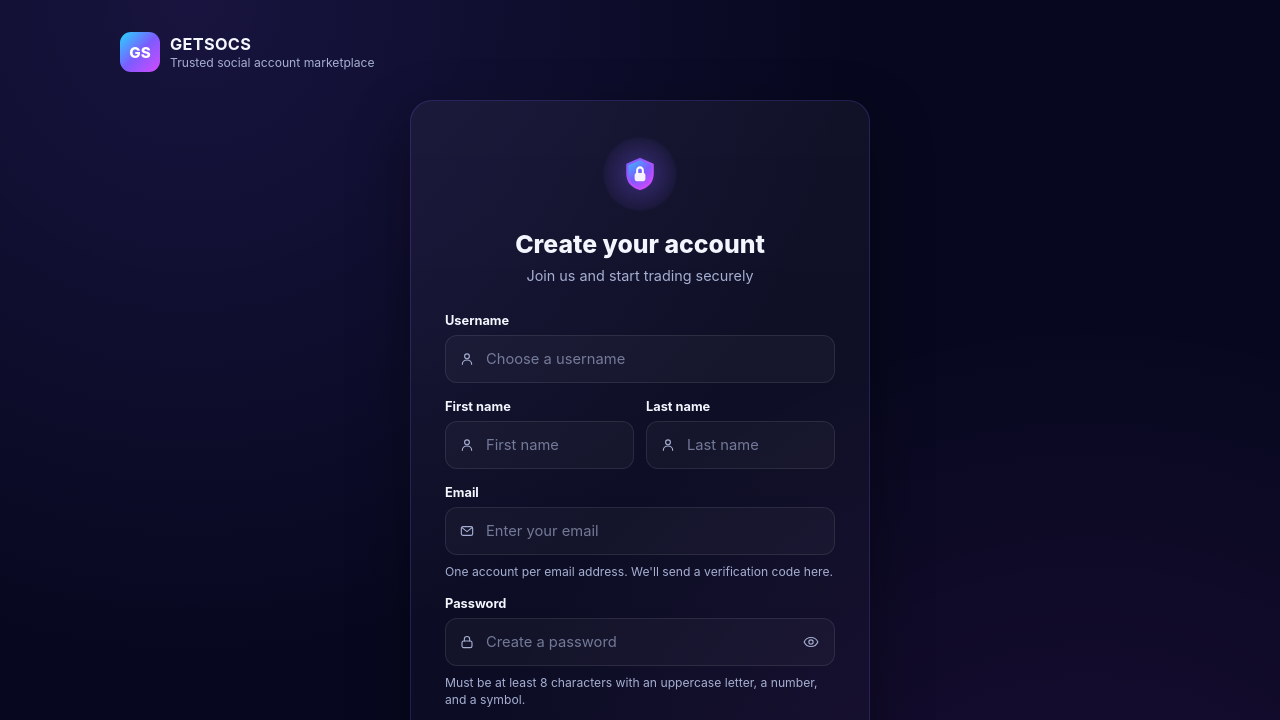
Redesigned auth pages — render + core interactions › Register: successful submission with requiresEmailVerification shows the verify-code card, not the home redirect
Type "newuser" into the field with placeholder "Choose a username" at (640,359), box [445, 335, 835, 383]
Type "New" into the field with placeholder "First name" at (540,445), box [445, 421, 634, 469]
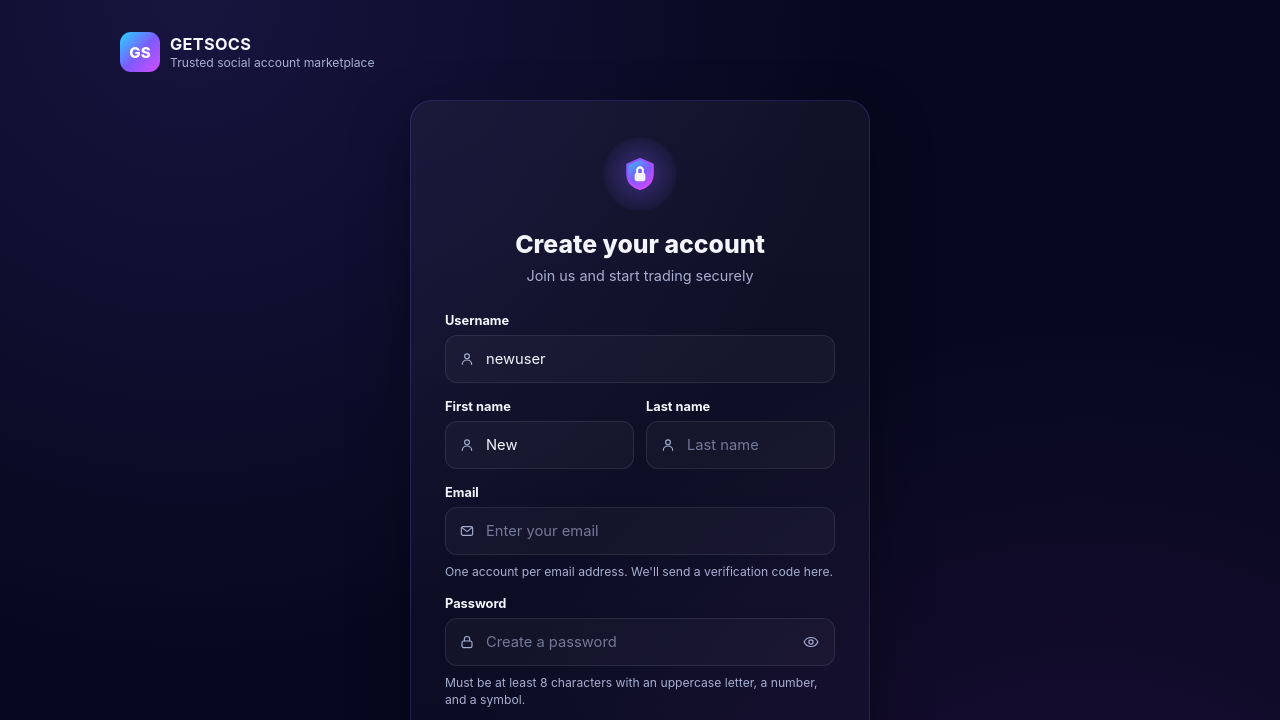
Type "User" into the field with placeholder "Last name" at (740,445), box [646, 421, 835, 469]
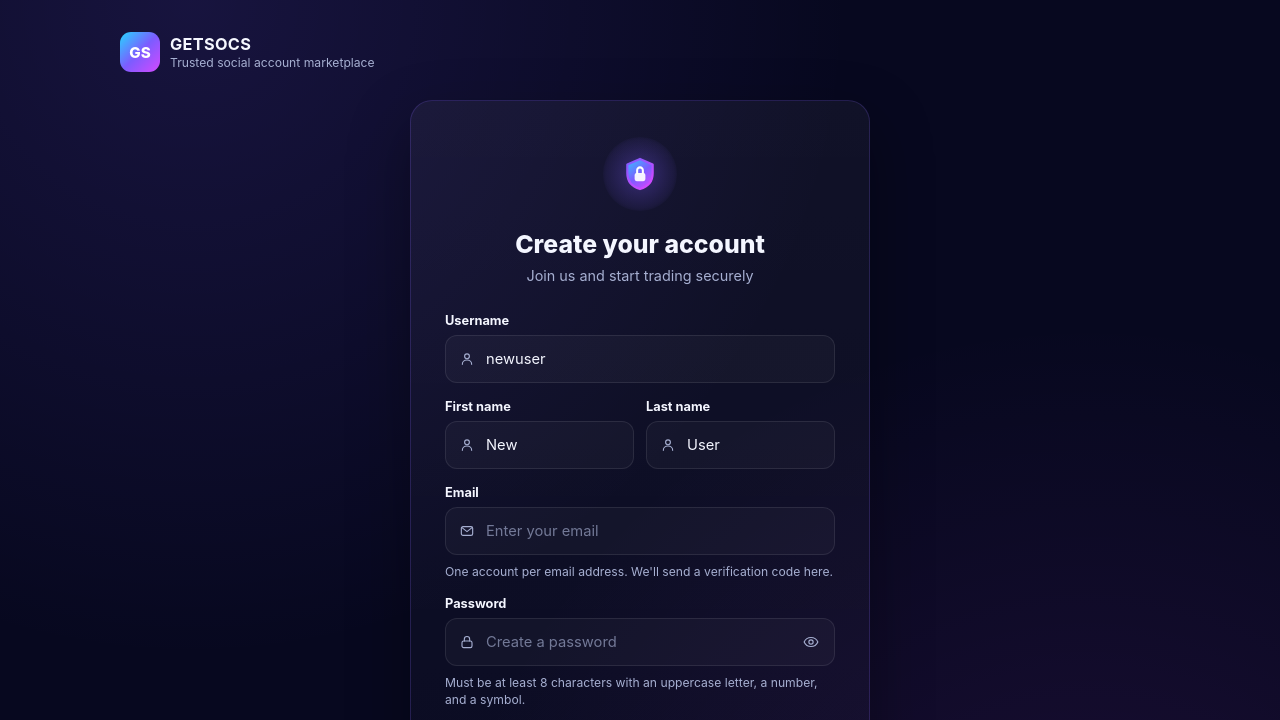
Type "newuser@example.com" into the field with placeholder "Enter your email" at (640,531), box [445, 507, 835, 555]
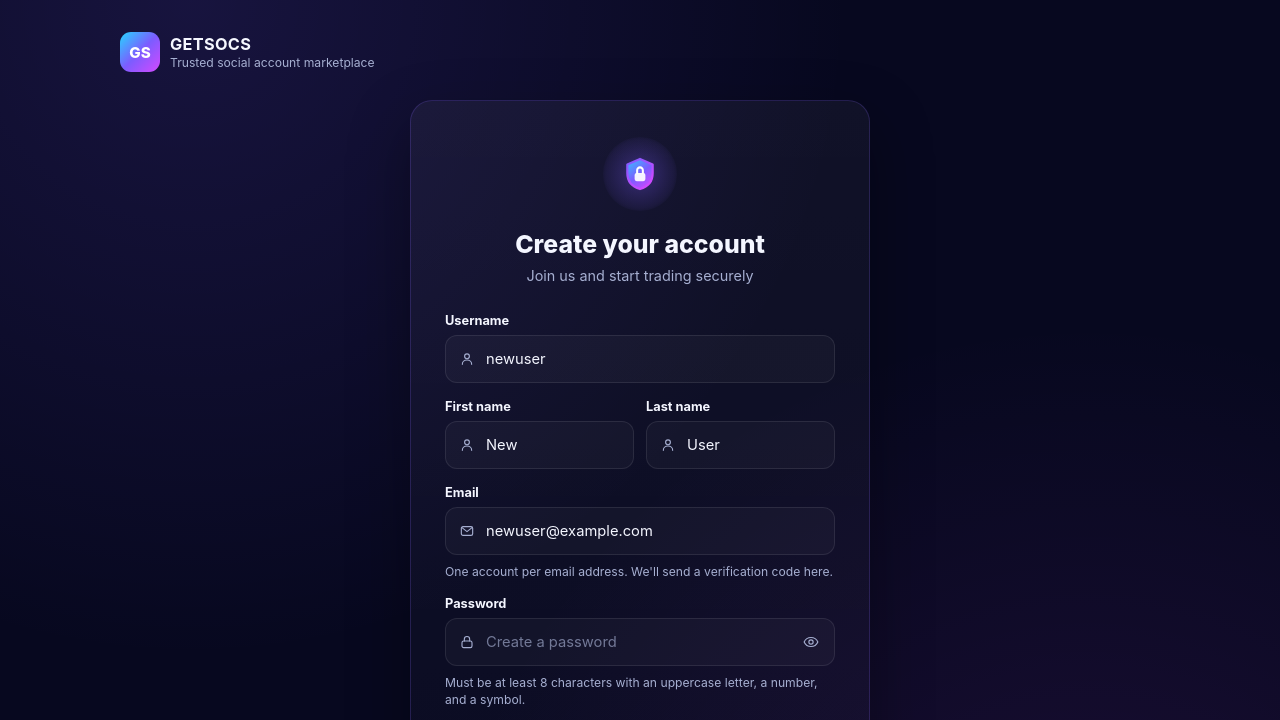
Type "Sup3r!Secret" into the password field with placeholder "Create a password" at (640,642), box [445, 618, 835, 666]
(page scrolled)
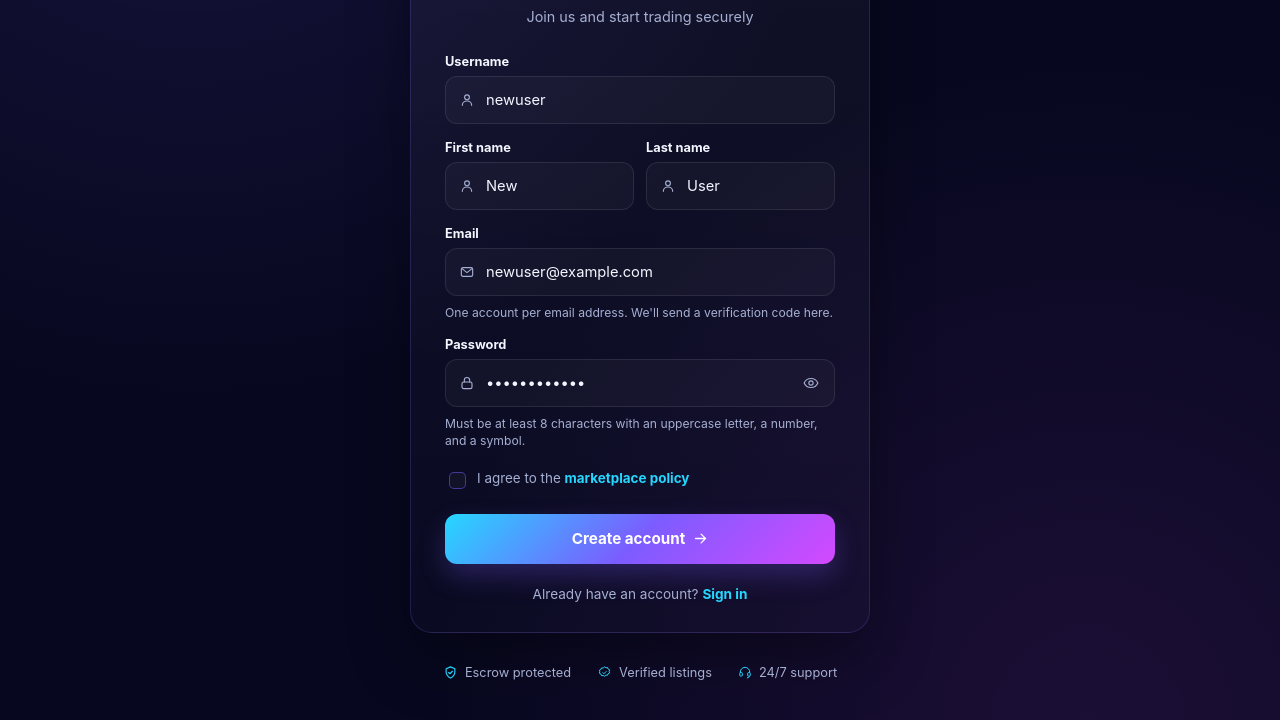
Click the checkbox at (458,480), box [449, 472, 466, 489]
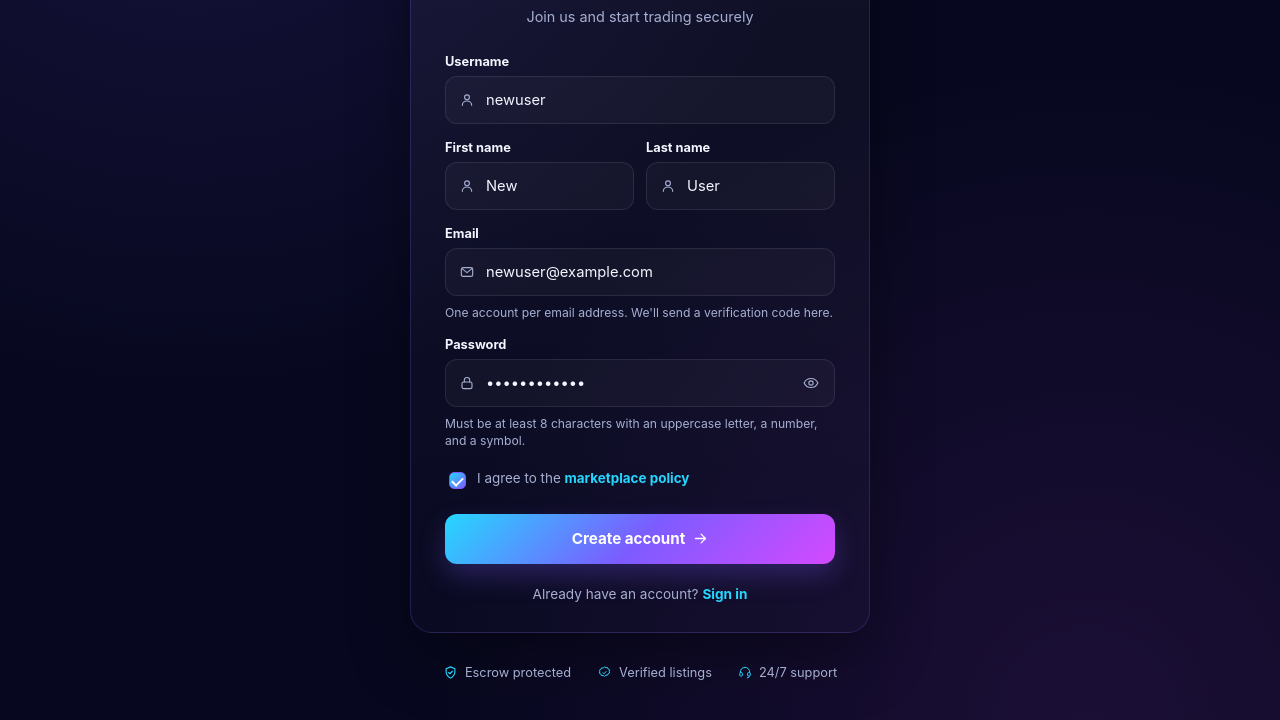
Click the button "Create account" at (640,539), box [445, 514, 835, 564]
(page scrolled)
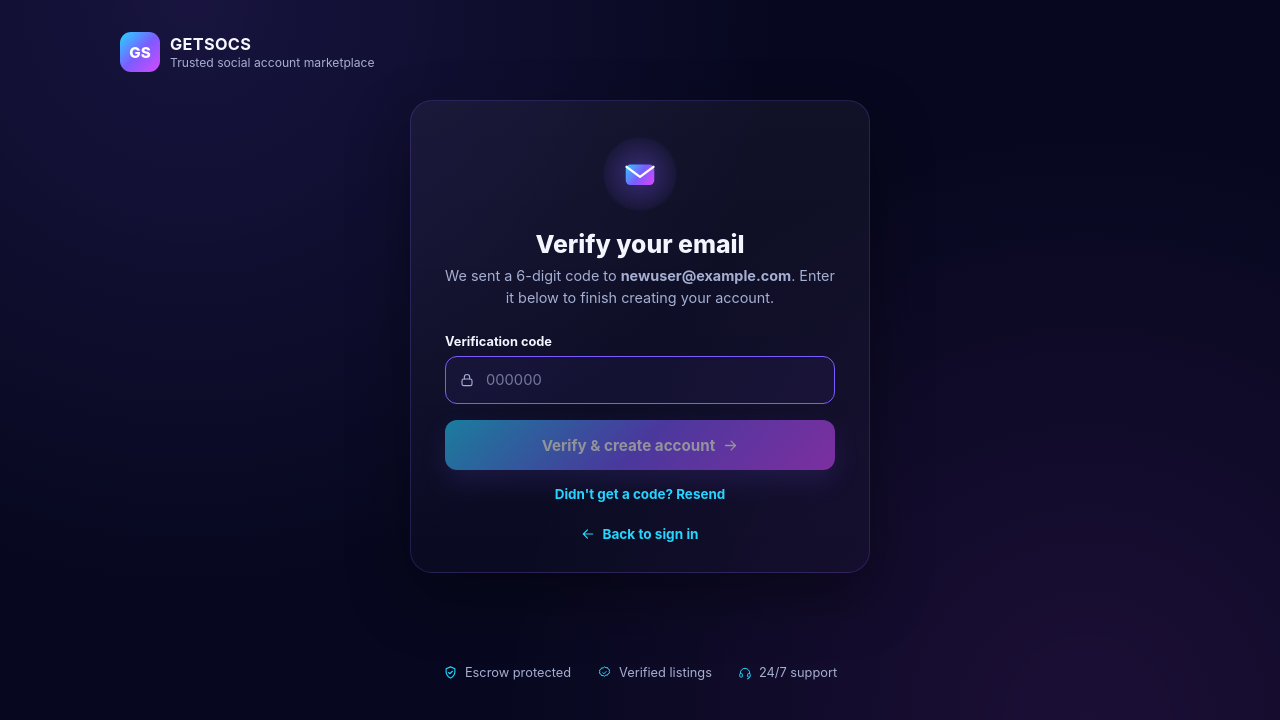
Now the heading "Verify your email" is shown, box [535, 229, 744, 259]
Now the text "newuser@example.com" is shown, box [621, 267, 791, 284]
